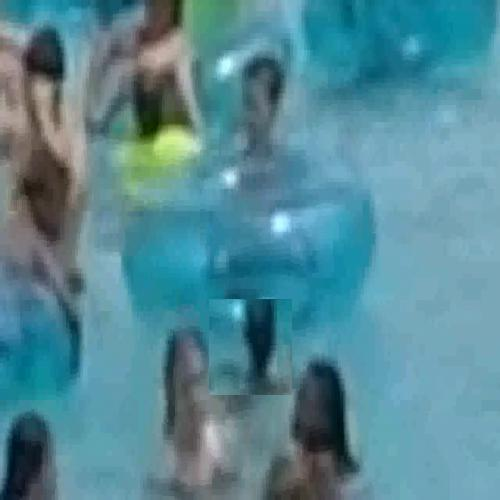drowning: (209, 299, 293, 396)
